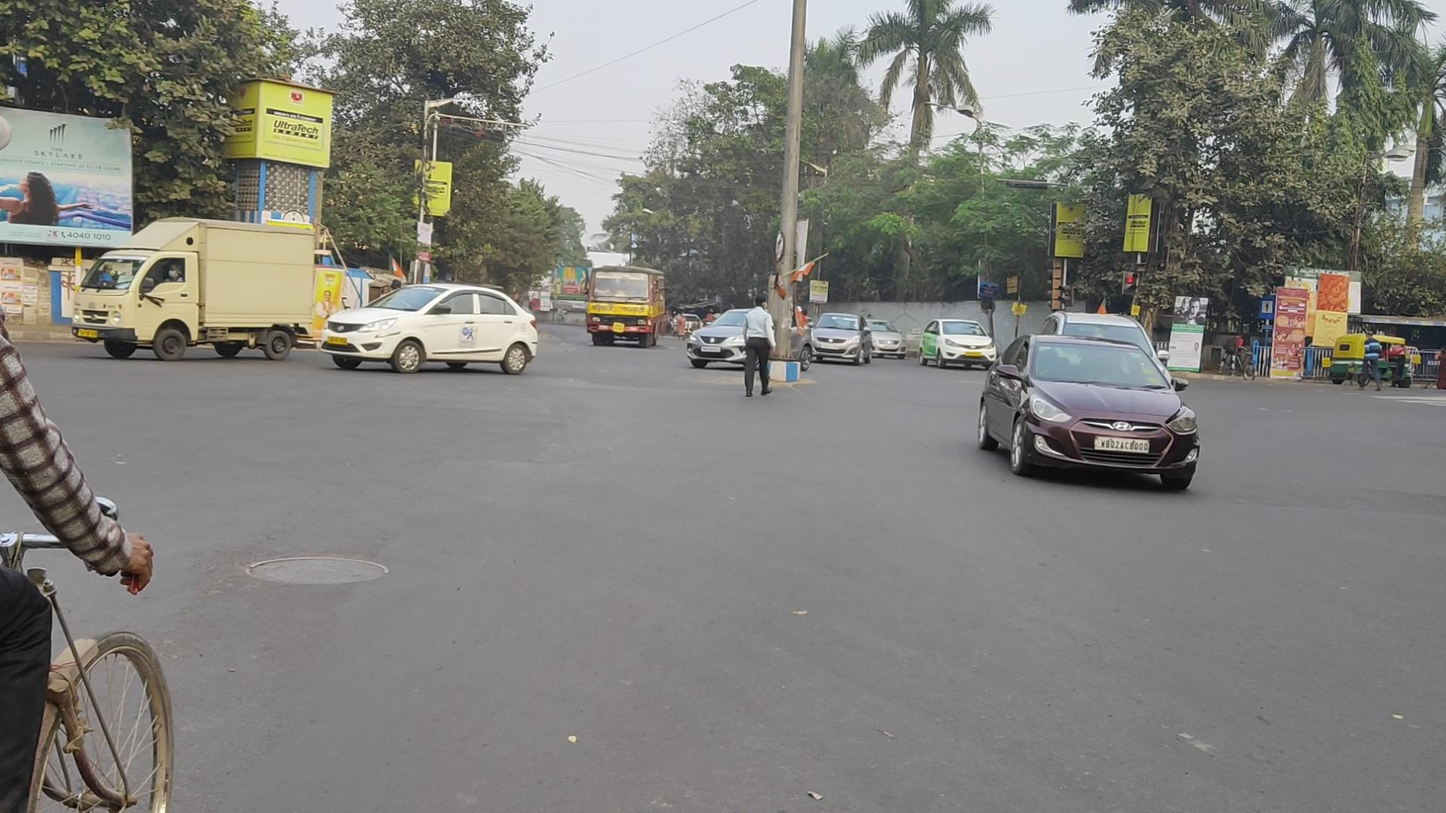Auto: (1330, 333, 1412, 388)
Bus: (585, 266, 665, 348)
car: (978, 333, 1201, 489), (320, 283, 538, 375), (1039, 311, 1175, 422), (687, 309, 813, 371), (920, 318, 996, 370), (810, 312, 872, 365), (864, 318, 908, 361)
van: (72, 217, 315, 361)
